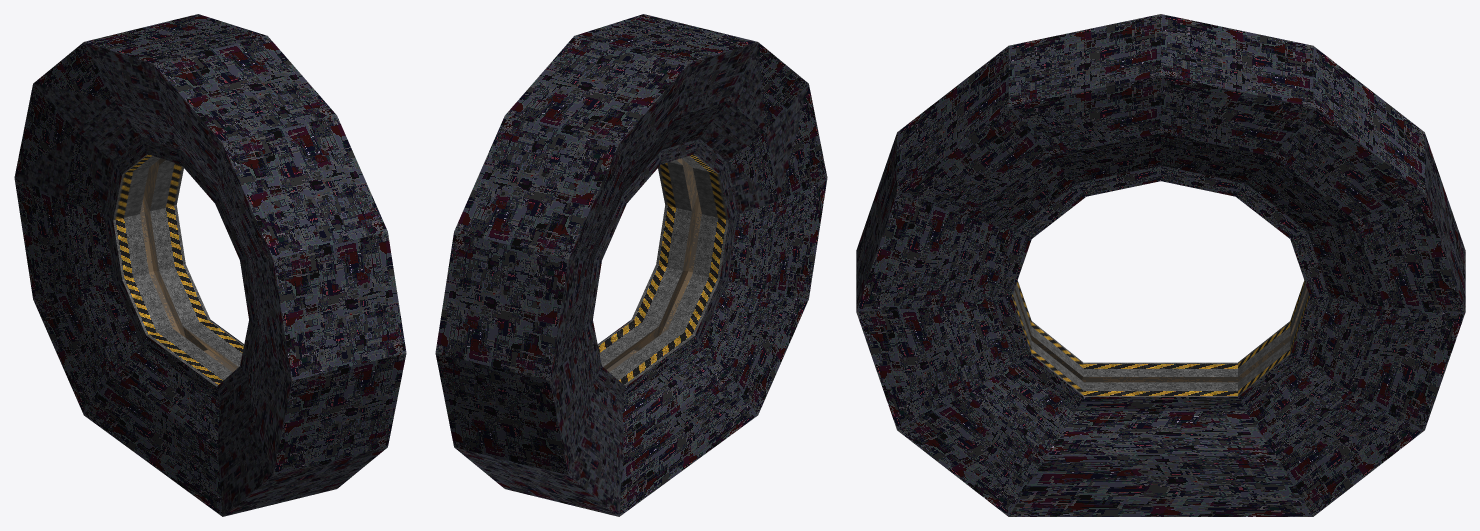
Rendered from Cylinder_hazard_Frame_door-col.glb.
3 views of the same model, side by side, from view 1: azimuth 30°, elevation 25°; view 2: azimuth 150°, elevation 25°; view 3: azimuth 270°, elevation 25° (orthographic). The views are drawn at different scales.
Visible parts, largest first — view 1: Cylinder_hazard_Frame_door-col; view 2: Cylinder_hazard_Frame_door-col; view 3: Cylinder_hazard_Frame_door-col.
Part boxes in pixels (x1=…): Cylinder_hazard_Frame_door-col: x1=14, y1=14, x2=406, y2=516; Cylinder_hazard_Frame_door-col: x1=435, y1=14, x2=827, y2=516; Cylinder_hazard_Frame_door-col: x1=856, y1=14, x2=1465, y2=516.
Bounding box in the file's own units: 1.8 × 6.05 × 7.56.
1 material, 1 textured.
